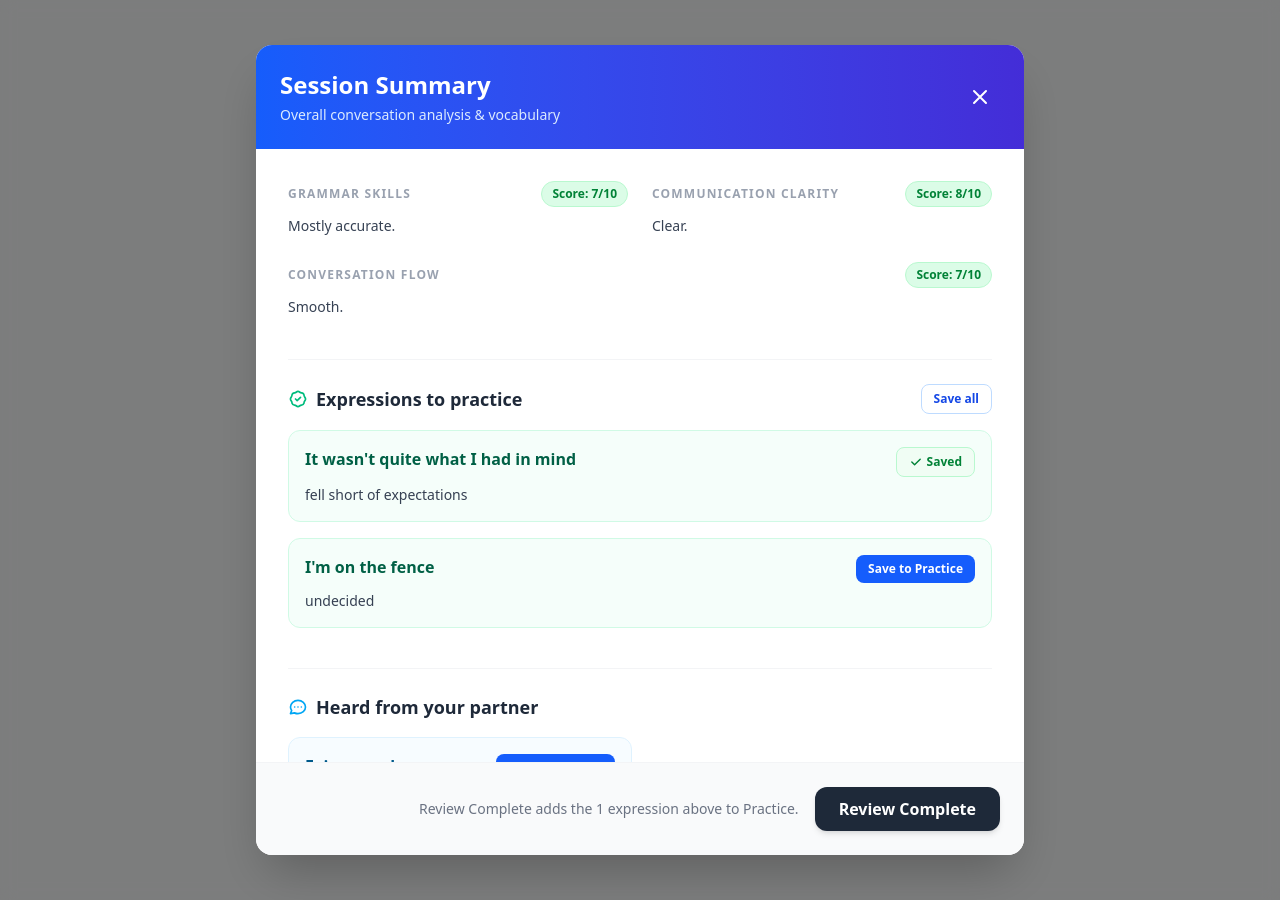
Test case: SummaryModal › keeps the dialog open and shows the error when saving fails
The width and height of the screenshot is (1280, 900).
Click the button "Review Complete" at {"x": 907, "y": 809}, box [815,787,1000,831]
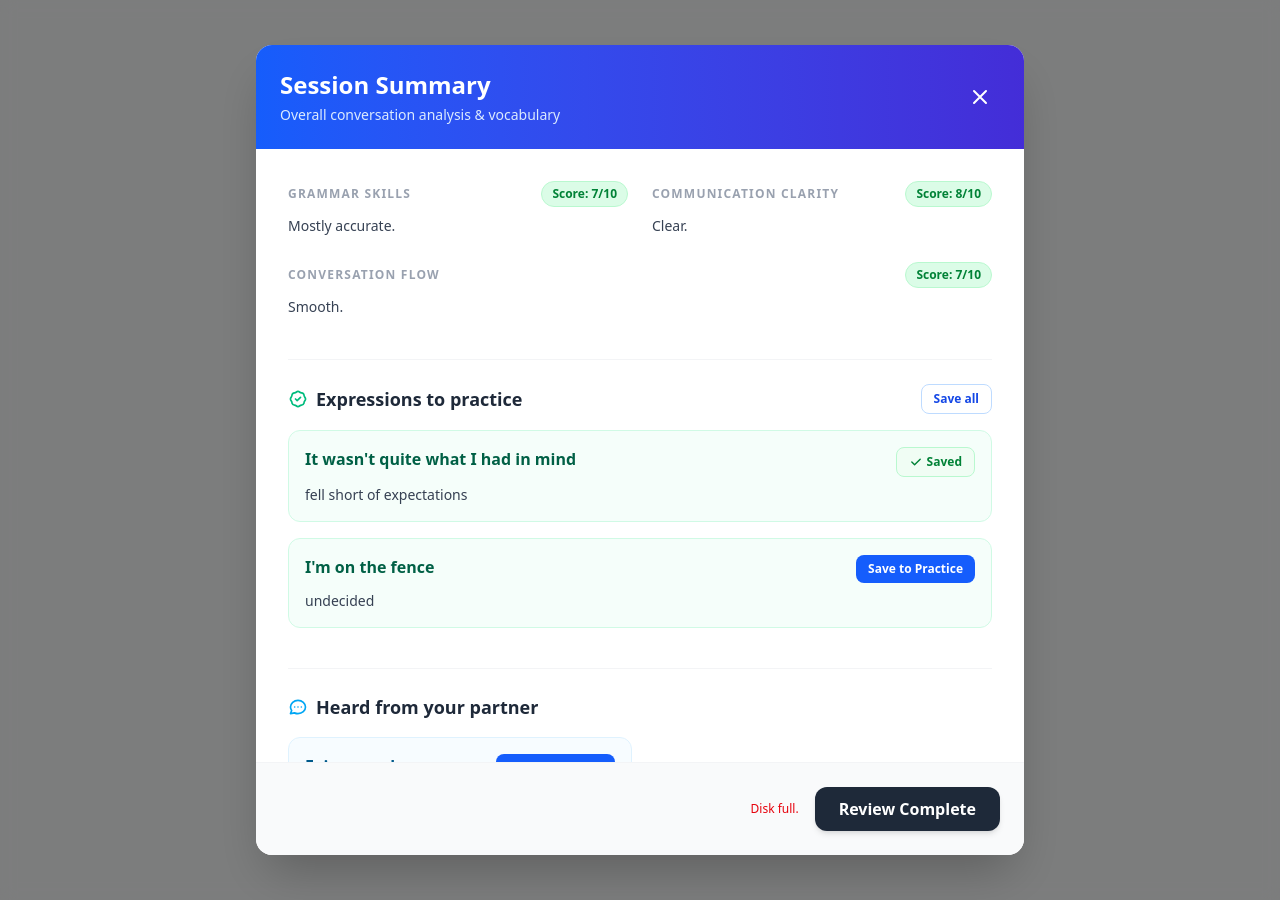
Expected: the message reads "Disk full.", [750,800,799,817]
